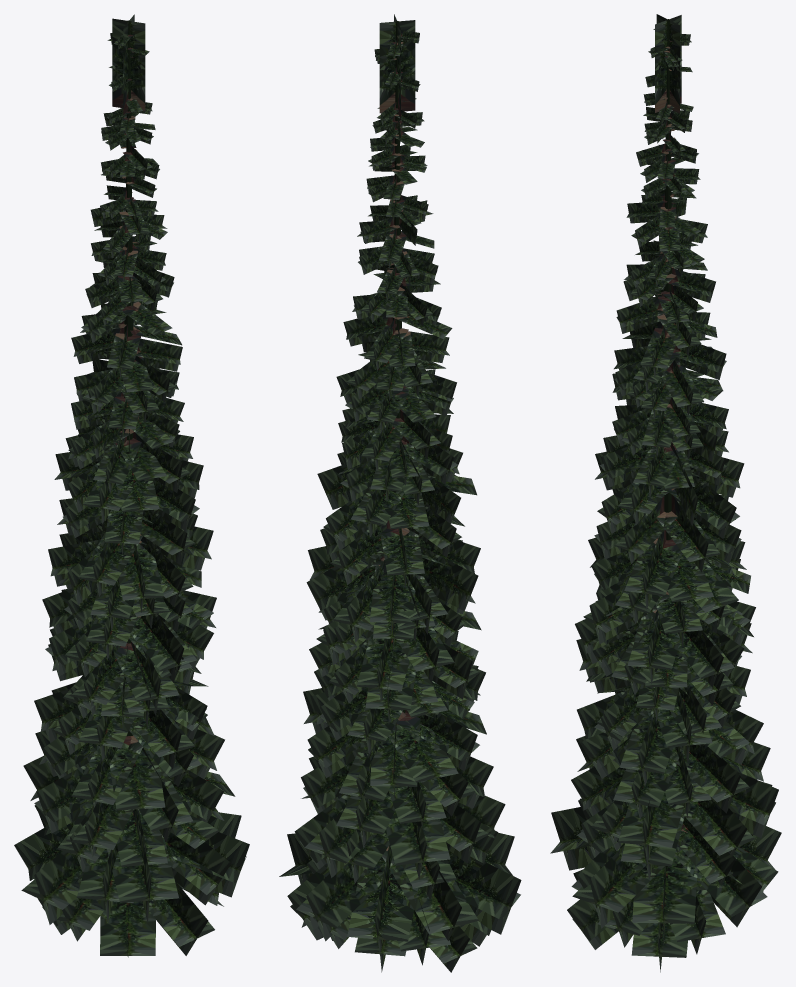
Rendered from category_mesh_tree_3_v1.glb.
3 renders of one model, left to right at view 1: azimuth 30°, elevation 25°; view 2: azimuth 150°, elevation 25°; view 3: azimuth 270°, elevation 25°, orthographic. The views are drawn at different scales.
Visible parts, largest first — view 1: category_mesh_tree_3_v1; view 2: category_mesh_tree_3_v1; view 3: category_mesh_tree_3_v1.
Part boxes in pixels (x1,y1,x2,y2): category_mesh_tree_3_v1: (14, 14, 249, 957); category_mesh_tree_3_v1: (279, 14, 521, 972); category_mesh_tree_3_v1: (550, 14, 781, 972).
Bounding box in the file's own units: 4.53 × 18.24 × 4.15.
1 material, 1 textured.
